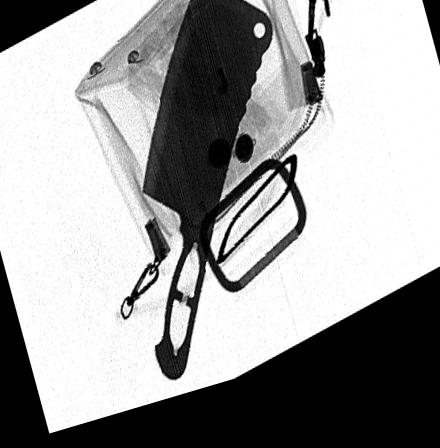Knife: (139, 0, 272, 391)
